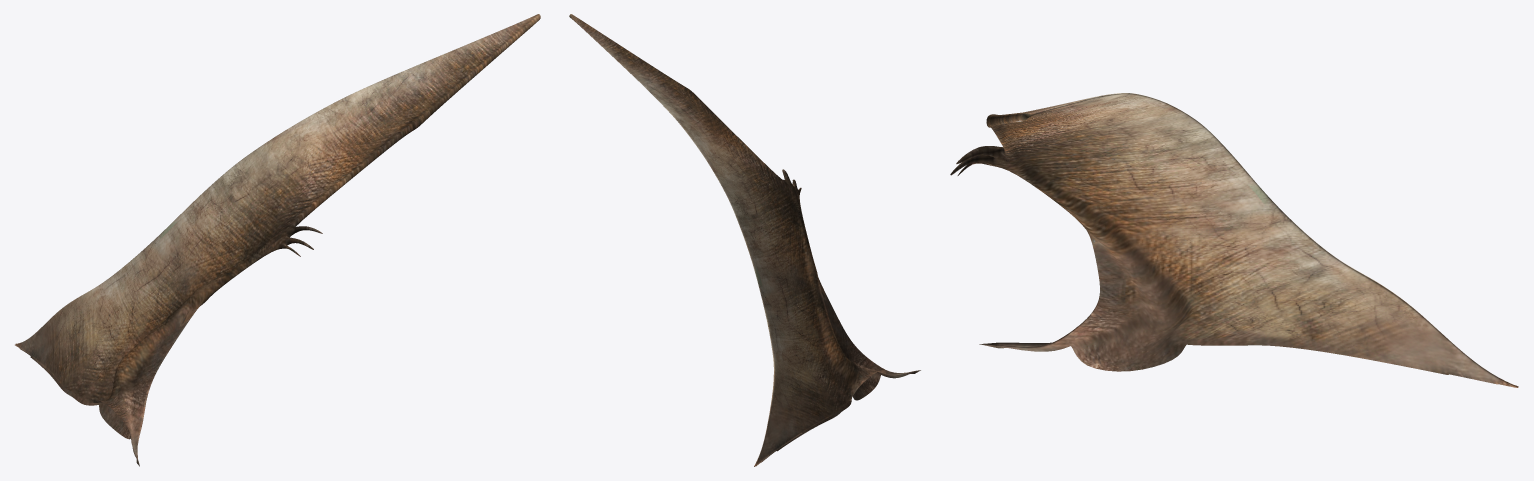
The model's file is AlaIzq.obj.
3 views of the same model, side by side, from view 1: azimuth 30°, elevation 25°; view 2: azimuth 150°, elevation 25°; view 3: azimuth 270°, elevation 25° (orthographic). The views are drawn at different scales.
Visible parts, largest first — view 1: Ala_Izq; view 2: Ala_Izq; view 3: Ala_Izq.
Boxes of the visible parts, x1,y1,x2,y2 form: Ala_Izq: [15, 14, 540, 466]; Ala_Izq: [569, 14, 920, 466]; Ala_Izq: [950, 93, 1518, 387].
Bounding box in the file's own units: 10.95 × 8.83 × 7.93.
1 material, 1 textured.
